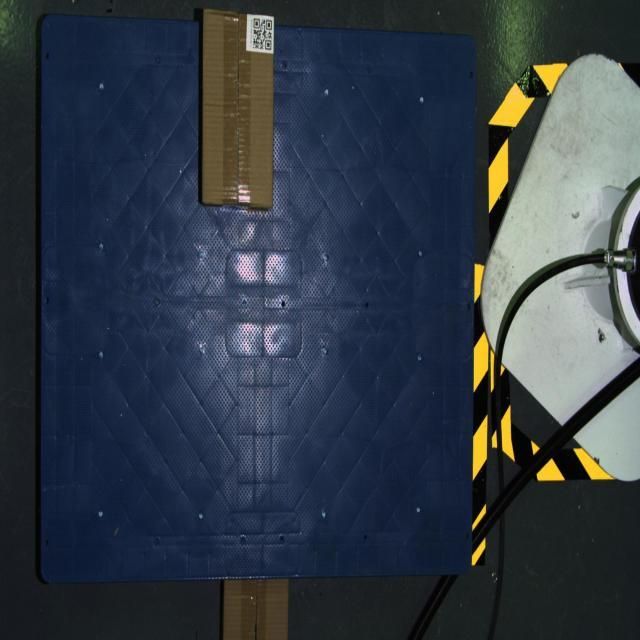box: (202, 9, 274, 208)
